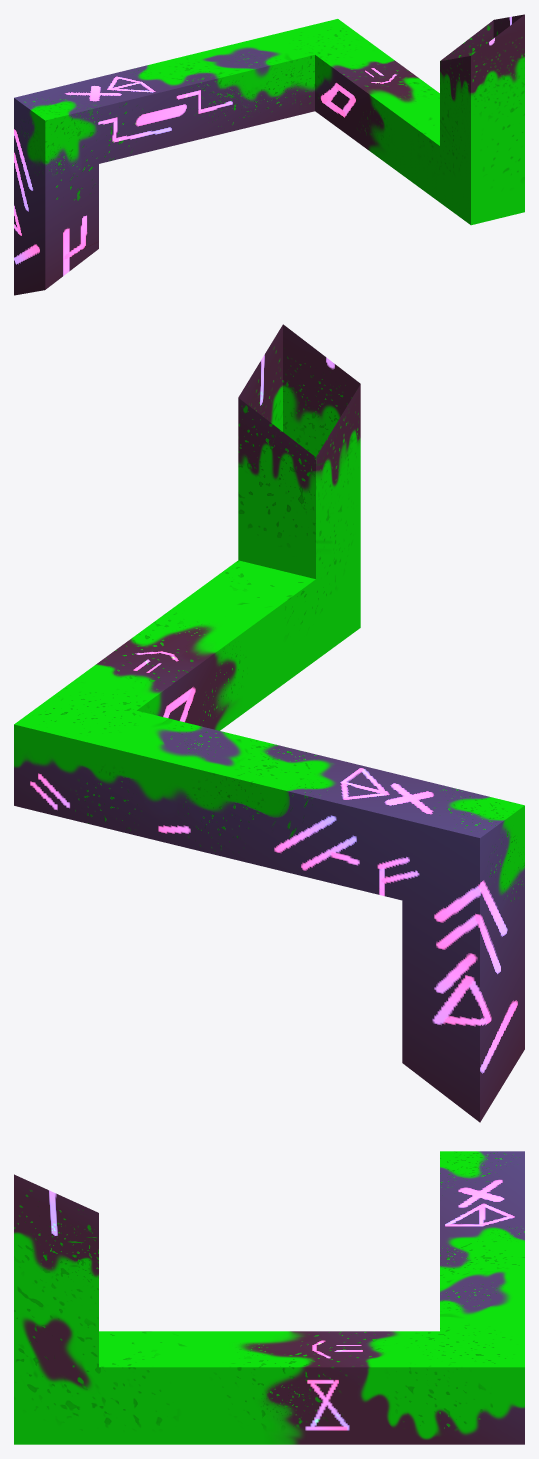
File: Triangle 1.fbx
3 renders of one model, top to bottom at view 1: azimuth 30°, elevation 25°; view 2: azimuth 150°, elevation 25°; view 3: azimuth 270°, elevation 25°, orthographic. The views are drawn at different scales.
Parts seen in each view (by area): view 1: Penrose; view 2: Penrose; view 3: Penrose.
Part boxes in pixels (bbox=[...]): Penrose: bbox=[14, 14, 524, 295]; Penrose: bbox=[14, 324, 524, 1122]; Penrose: bbox=[14, 1151, 524, 1444].
Bounding box in the file's own units: 1200 × 1200 × 1200.
Materials: 1 (1 with a texture image).
